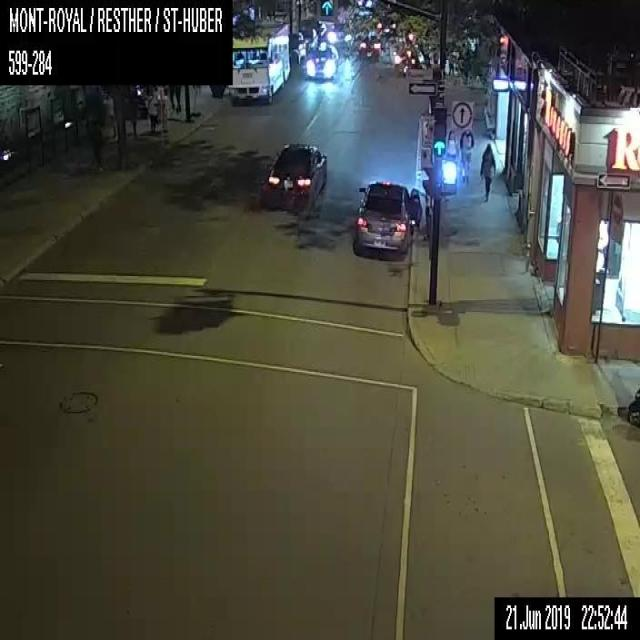pedestrian: (479, 142, 496, 202), (86, 100, 100, 169), (459, 125, 473, 181), (446, 129, 458, 181), (146, 86, 159, 134), (102, 92, 116, 136), (128, 88, 140, 137)
vehicle: (353, 181, 422, 256), (227, 23, 288, 102), (264, 143, 327, 209), (304, 43, 337, 79), (327, 22, 353, 47), (358, 34, 380, 60), (288, 31, 305, 62), (303, 20, 326, 41), (298, 28, 317, 52)
